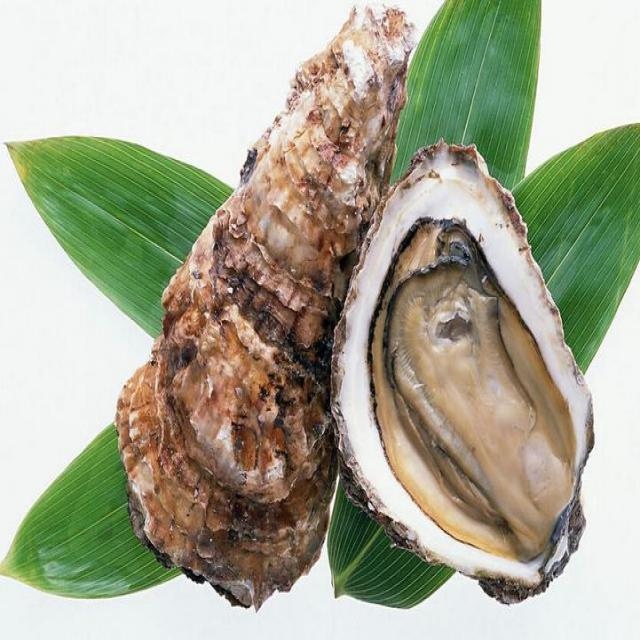Oyster- Indeterminate: (90, 2, 428, 623)
Oyster-Open: (318, 120, 614, 617)
